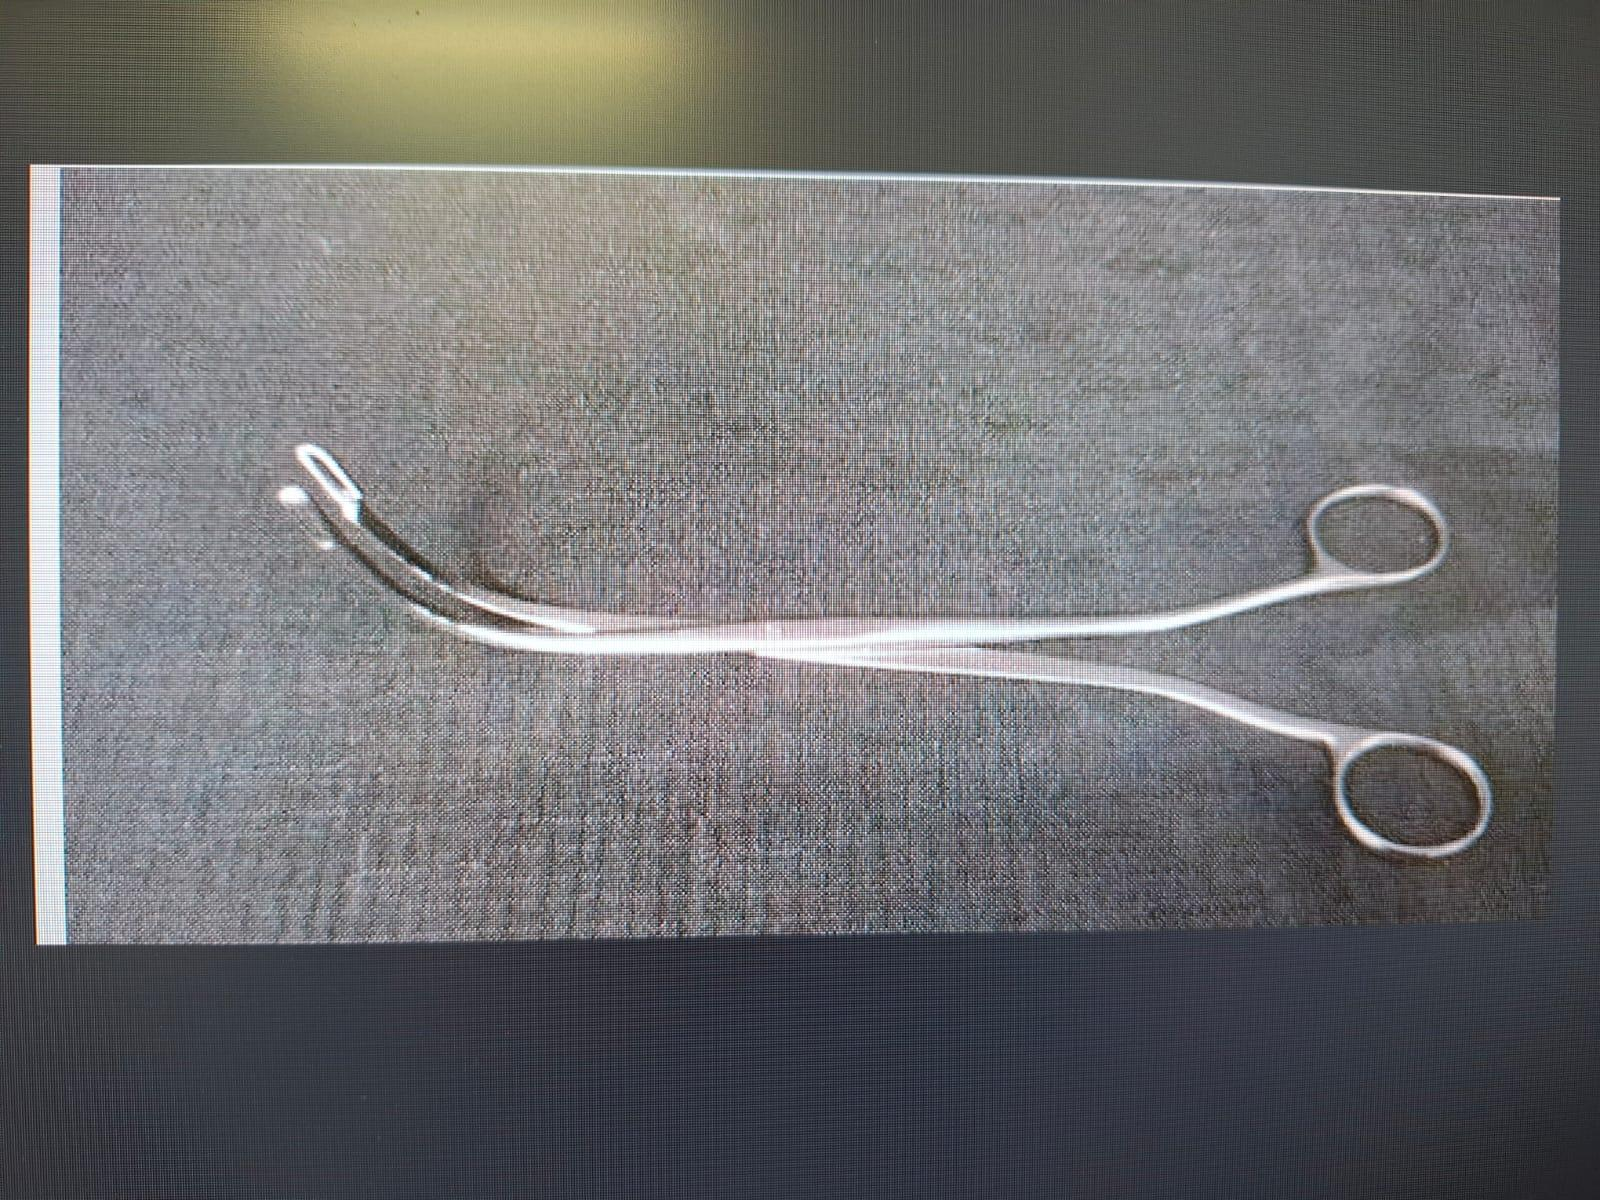Randall Forceps: (260, 418, 1506, 860)
